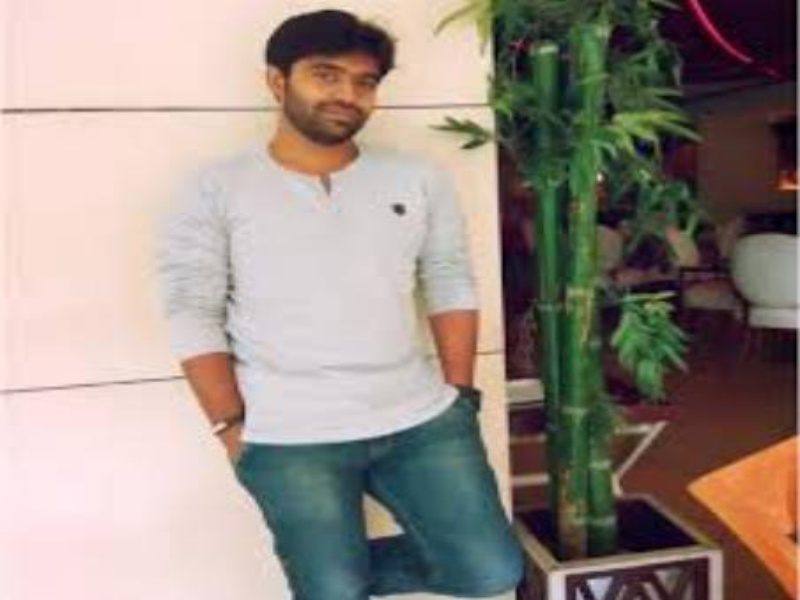TsisyArotava: (261, 9, 396, 158)
